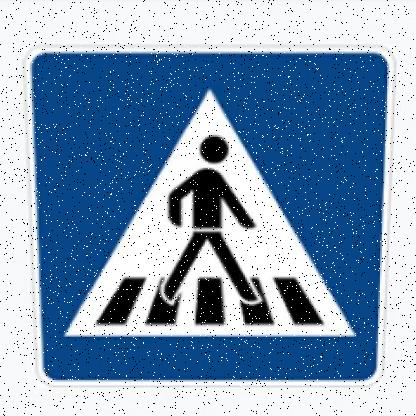Pedestrian Crossing: (30, 44, 383, 393)
